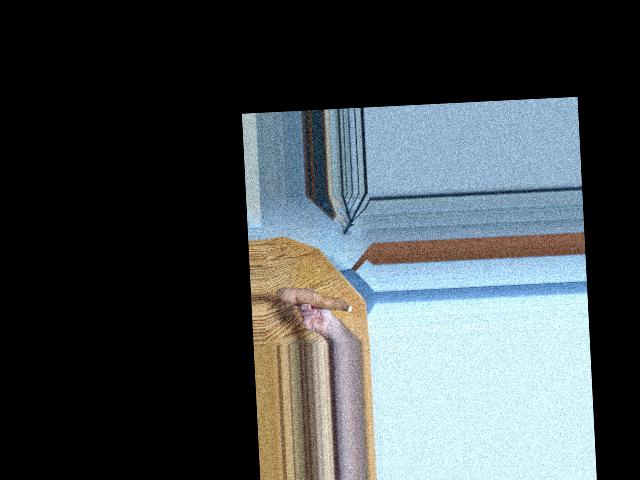sweet_potato: (279, 279, 350, 316)
